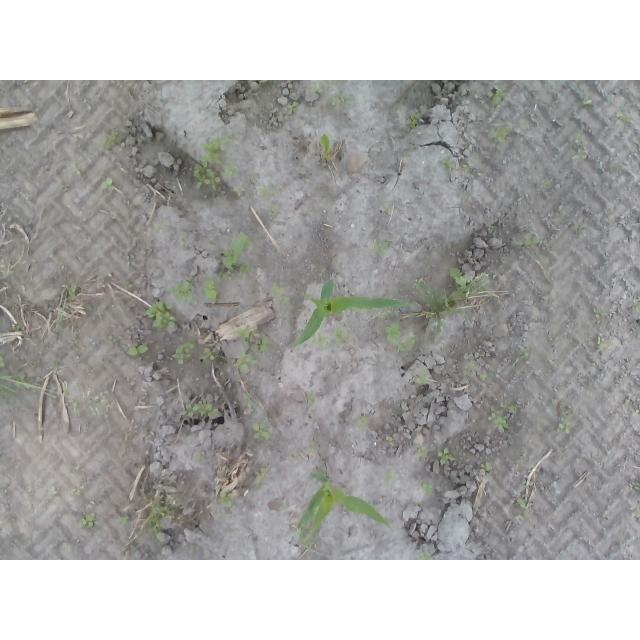Maize: (291, 279, 406, 346), (299, 471, 393, 534)
Weeds: (194, 128, 247, 201), (415, 266, 490, 313), (218, 231, 255, 281), (144, 504, 176, 544), (161, 276, 200, 304), (235, 326, 272, 354), (144, 299, 177, 329), (312, 328, 351, 353), (487, 402, 518, 433), (384, 324, 416, 353), (1, 372, 32, 401), (111, 335, 149, 358), (177, 400, 224, 417), (95, 130, 126, 153), (174, 338, 198, 366), (511, 231, 546, 250), (486, 84, 510, 110), (574, 128, 593, 160), (463, 360, 488, 384), (234, 351, 259, 373), (202, 273, 220, 301), (431, 313, 450, 336), (271, 282, 289, 305), (61, 279, 79, 302), (557, 408, 572, 435), (328, 94, 353, 110), (252, 423, 273, 442), (319, 133, 333, 161), (256, 186, 278, 202), (1, 258, 16, 281), (437, 447, 455, 466), (575, 88, 593, 107), (495, 125, 513, 144), (514, 344, 534, 361), (515, 498, 530, 520), (303, 527, 317, 550), (254, 466, 270, 486), (591, 335, 609, 352), (80, 511, 97, 529), (415, 368, 432, 385), (383, 469, 398, 488), (206, 351, 225, 366), (415, 444, 431, 461), (408, 112, 424, 129), (375, 239, 390, 257), (303, 391, 318, 409), (219, 491, 234, 509), (153, 218, 172, 232), (305, 83, 324, 97), (615, 110, 633, 124), (630, 295, 640, 320), (46, 487, 62, 502), (242, 392, 255, 410), (267, 205, 282, 220), (353, 415, 368, 430), (440, 159, 456, 173), (286, 101, 301, 115), (50, 352, 62, 369), (421, 481, 435, 495), (179, 232, 190, 249), (32, 355, 45, 369), (70, 161, 82, 176), (480, 463, 493, 476), (9, 320, 23, 332), (385, 433, 397, 447), (593, 309, 608, 320), (286, 450, 298, 463), (246, 169, 257, 183), (101, 177, 113, 189), (419, 550, 433, 560), (72, 400, 81, 415), (86, 303, 98, 314), (1, 354, 8, 371), (308, 440, 318, 450), (632, 510, 640, 522), (630, 482, 640, 491), (487, 224, 497, 233), (143, 424, 153, 433), (120, 515, 129, 525), (72, 488, 81, 496), (320, 271, 326, 277)
